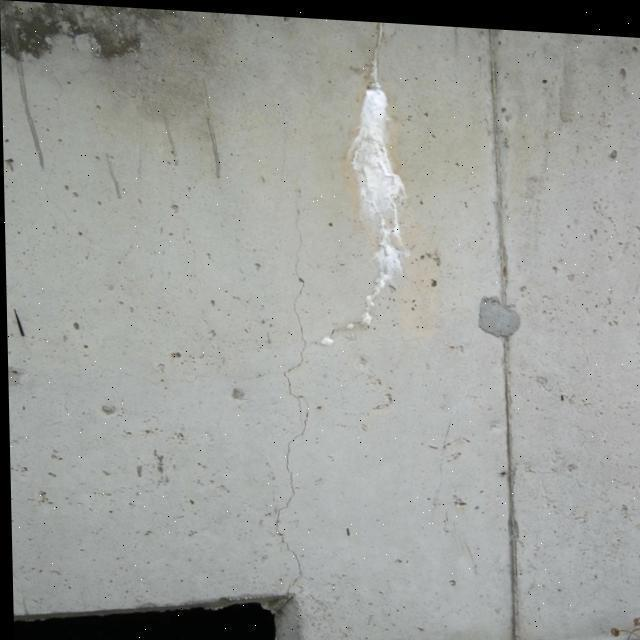D01: (350, 78, 402, 285)
